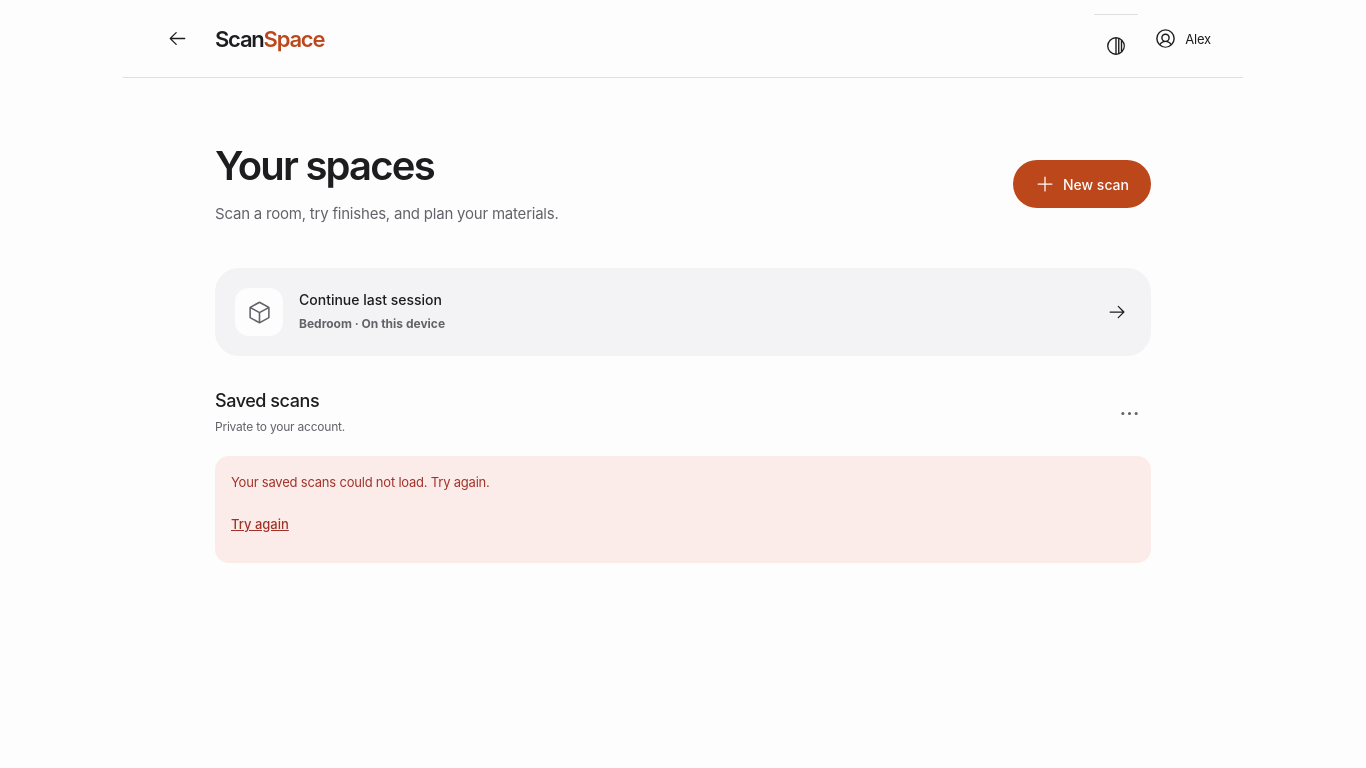
Scenario: account loading failures offer a retry and preserve the local draft
Expected: the message shows "saved scans could not load", [231,474,490,490]
Expected: the button "Continue last session Bedroom · On this device" is enabled, [215,268,1151,356]
Click the button "Try again" at (260, 525), box [231,503,289,547]
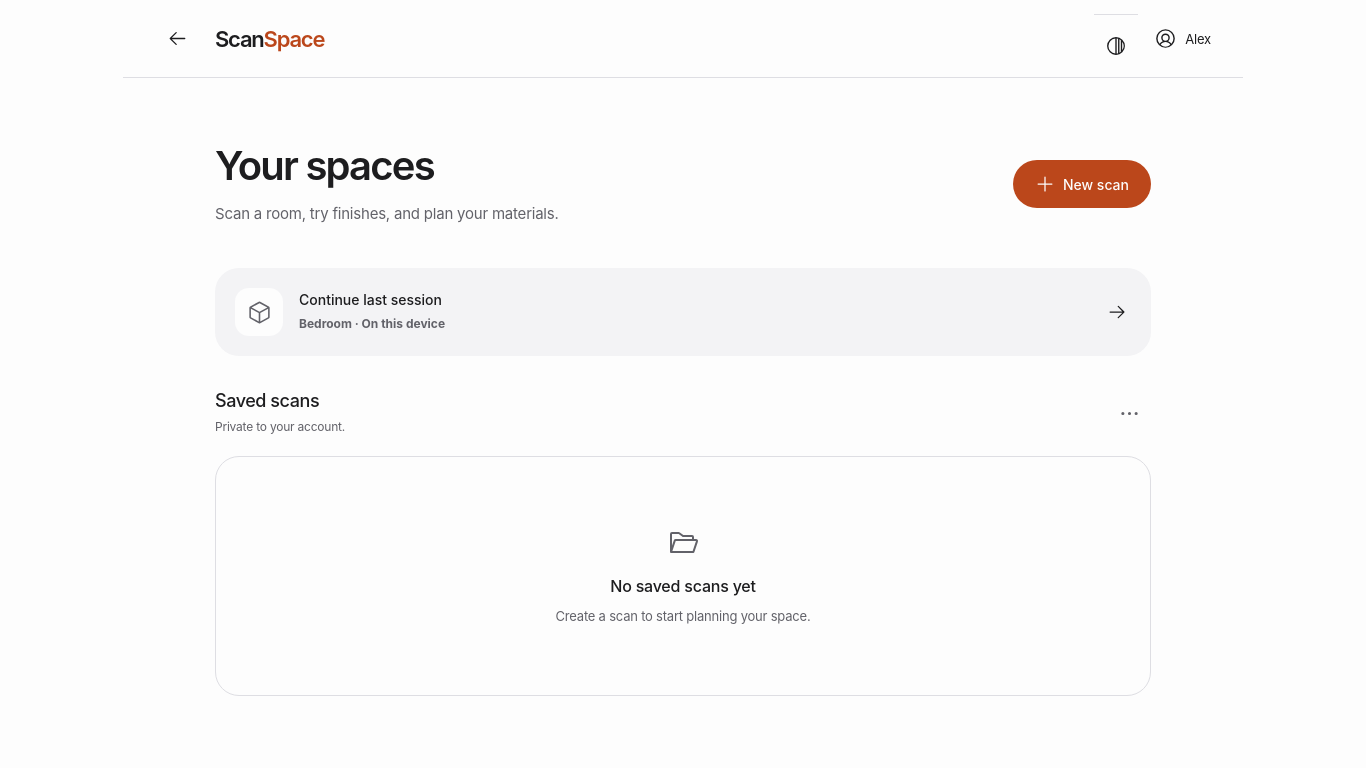
Expected: the heading "No saved scans yet" is shown, [610,576,756,596]
